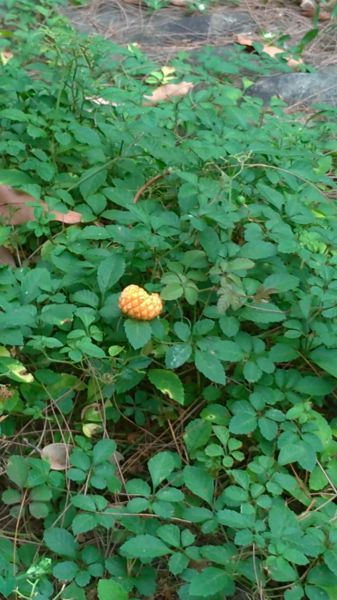eggs: (115, 281, 167, 322)
